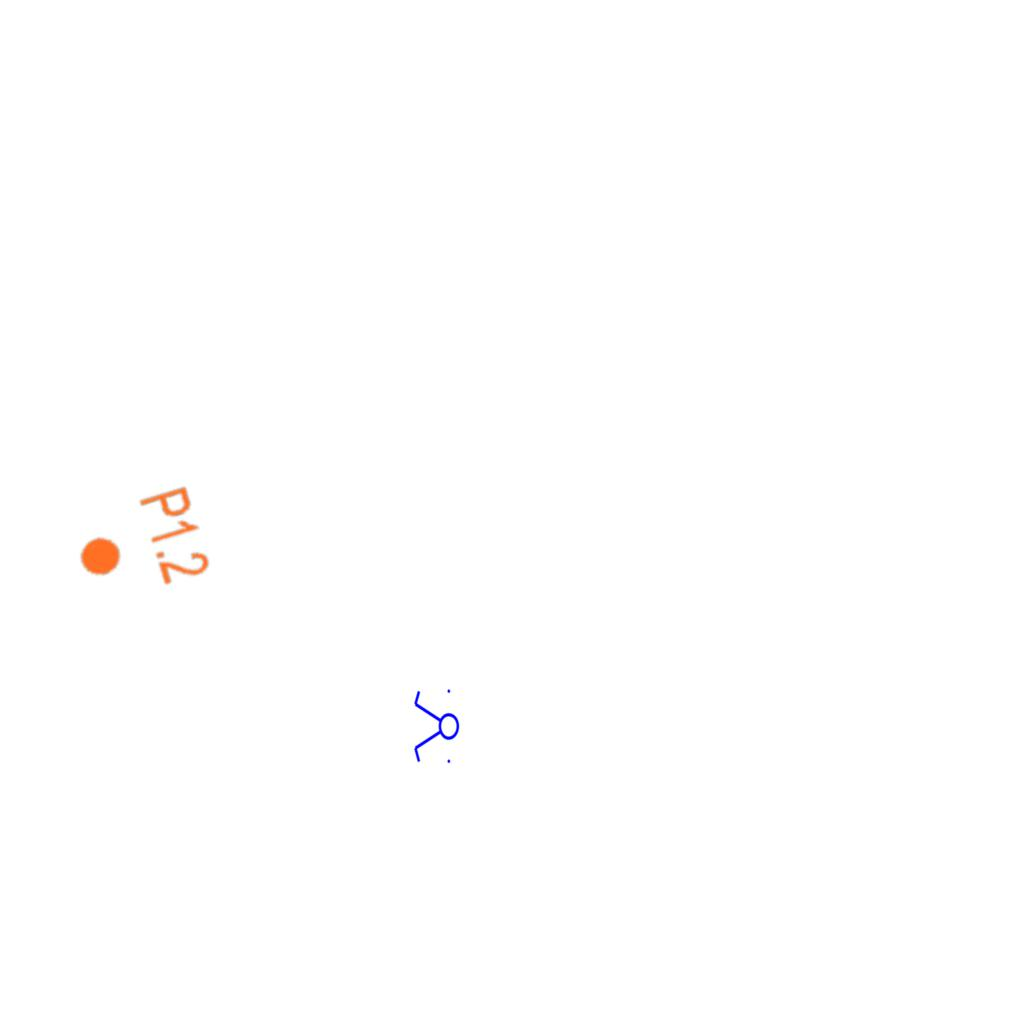Downlight_LED_Einbauleuchten_Flur: (65, 482, 216, 610)
Serienschalter: (412, 685, 460, 769)
